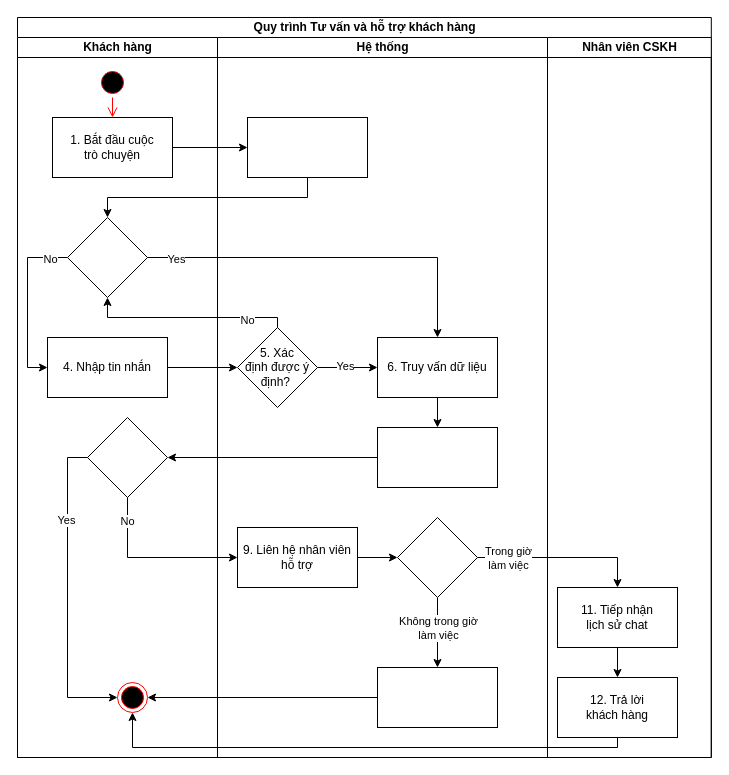
This 729x775 diagram has some shape labels left out. Each missing label, with the centre of its shape:
"10. Kiểm tra giờ làm việc?" belongs at [437,557].
"13. Hẹn thời gian phản hồi sau" belongs at [437,697].
"2. Hiển thị lời chào + nhóm thông tin hỗ trợ" belongs at [307,147].
"3. Chọn nhóm hỗ trợ?" belongs at [107,257].
"7. Hiển thị câu trả lời" belongs at [437,457].
"8. Hài lòng?" belongs at [127,457].
